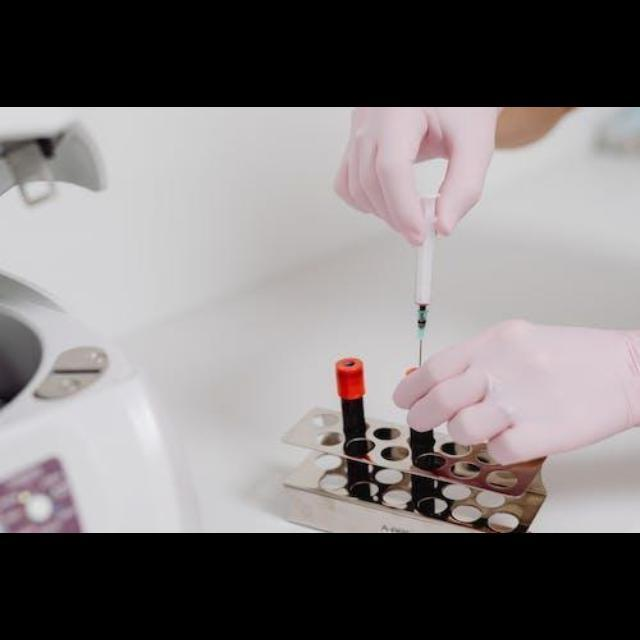blood: (344, 398, 370, 457), (412, 476, 435, 517), (349, 460, 370, 502), (411, 430, 435, 465)
